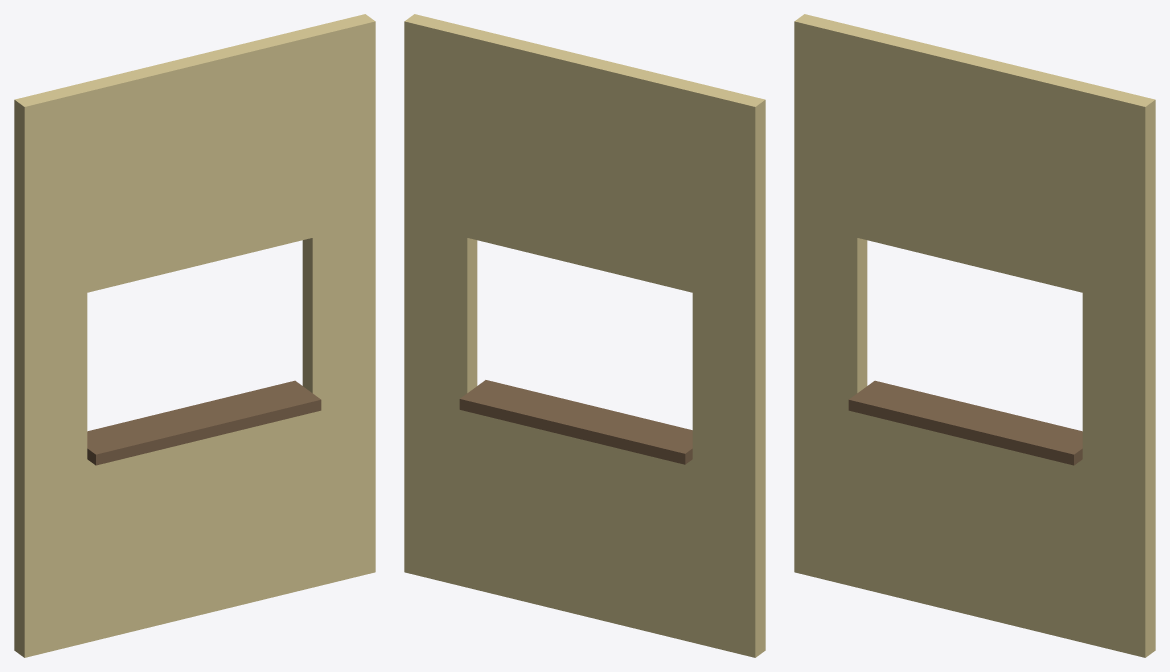
The model's file is Mesh_Wall_I3.fbx.
3 renders of one model, left to right at view 1: azimuth 30°, elevation 25°; view 2: azimuth 150°, elevation 25°; view 3: azimuth 330°, elevation 25°, orthographic.
Visible parts, largest first — view 1: Mesh_Wall_I3; view 2: Mesh_Wall_I3; view 3: Mesh_Wall_I3.
Part boxes in pixels (bbox=[...]): Mesh_Wall_I3: bbox=[14, 14, 375, 657]; Mesh_Wall_I3: bbox=[404, 14, 765, 657]; Mesh_Wall_I3: bbox=[794, 14, 1155, 657].
Bounding box in the file's own units: 2 × 3 × 0.2574.
